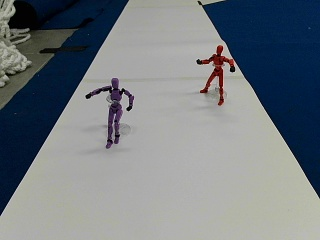pedestrian: (85, 77, 133, 146), (197, 44, 235, 104)
